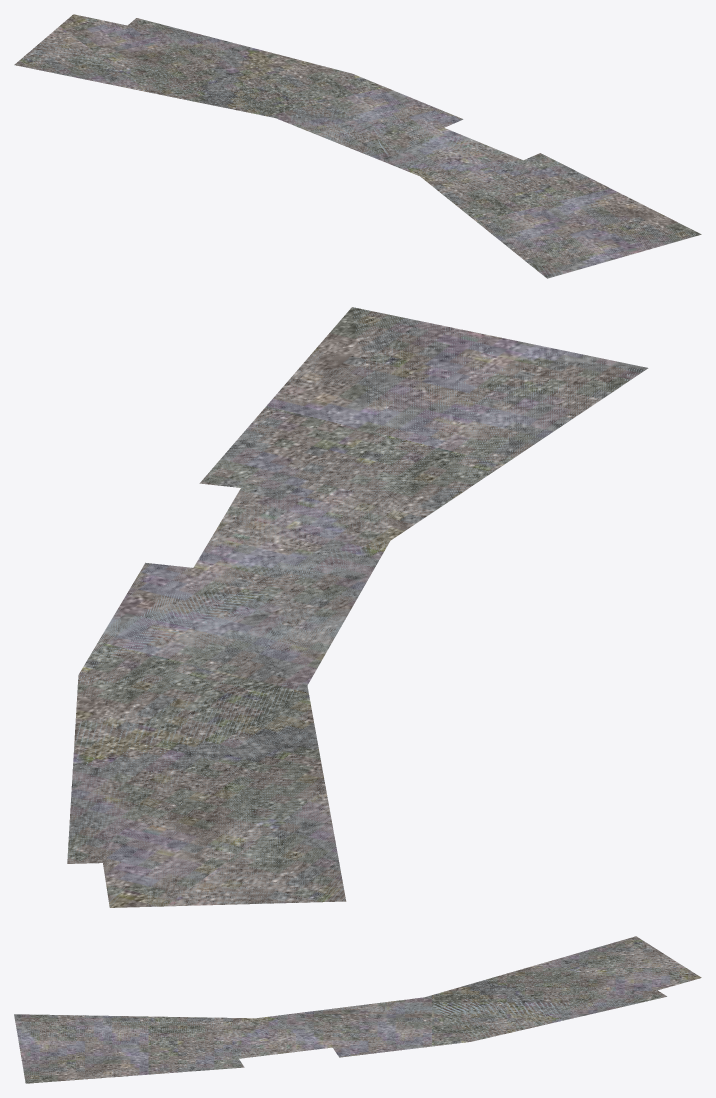
The model's file is 西庸城堡125.dae.
3 renders of one model, top to bottom at view 1: azimuth 30°, elevation 25°; view 2: azimuth 150°, elevation 25°; view 3: azimuth 270°, elevation 25°, orthographic. The views are drawn at different scales.
Visible parts, largest first — view 1: SketchUp; view 2: SketchUp; view 3: SketchUp.
Part boxes in pixels (bbox=[...]): SketchUp: bbox=[14, 14, 701, 278]; SketchUp: bbox=[67, 307, 648, 907]; SketchUp: bbox=[14, 936, 701, 1083].
Size of the model in its own units: 886 by 1745 by 0.
